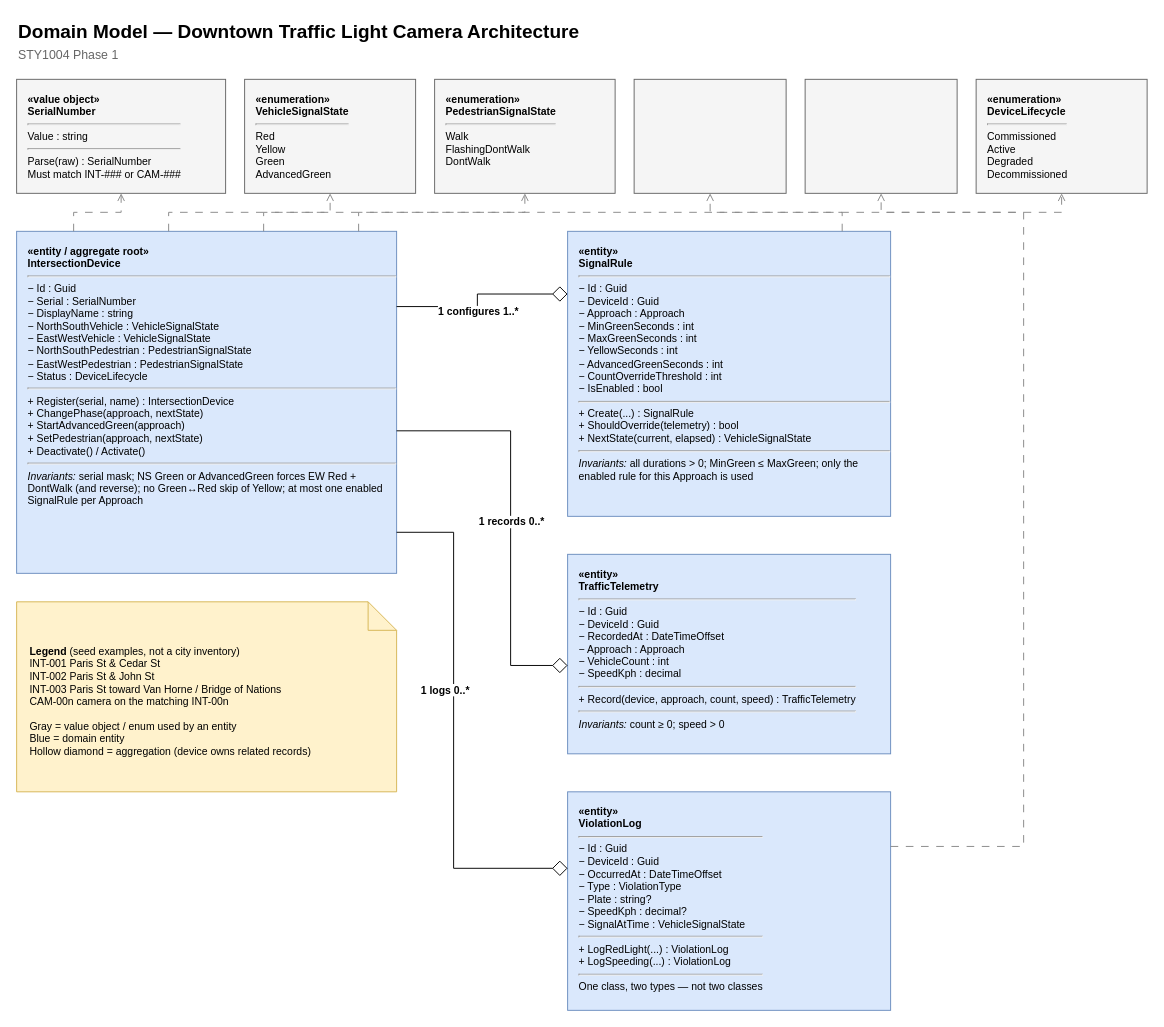
Some shapes in this 1164 by 1027 pixel diagram are drawn without their labels. Each missing label, with the box of its shape:
«enumeration» Approach NorthSouth EastWest: (633, 78, 786, 193)
«enumeration» ViolationType RedLight Speeding: (804, 78, 957, 193)
